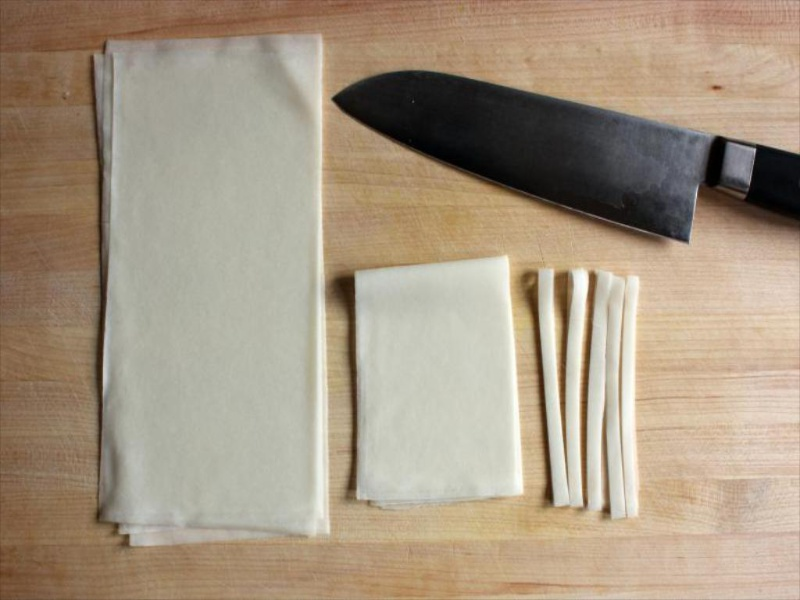knife: (38, 103, 793, 506)
